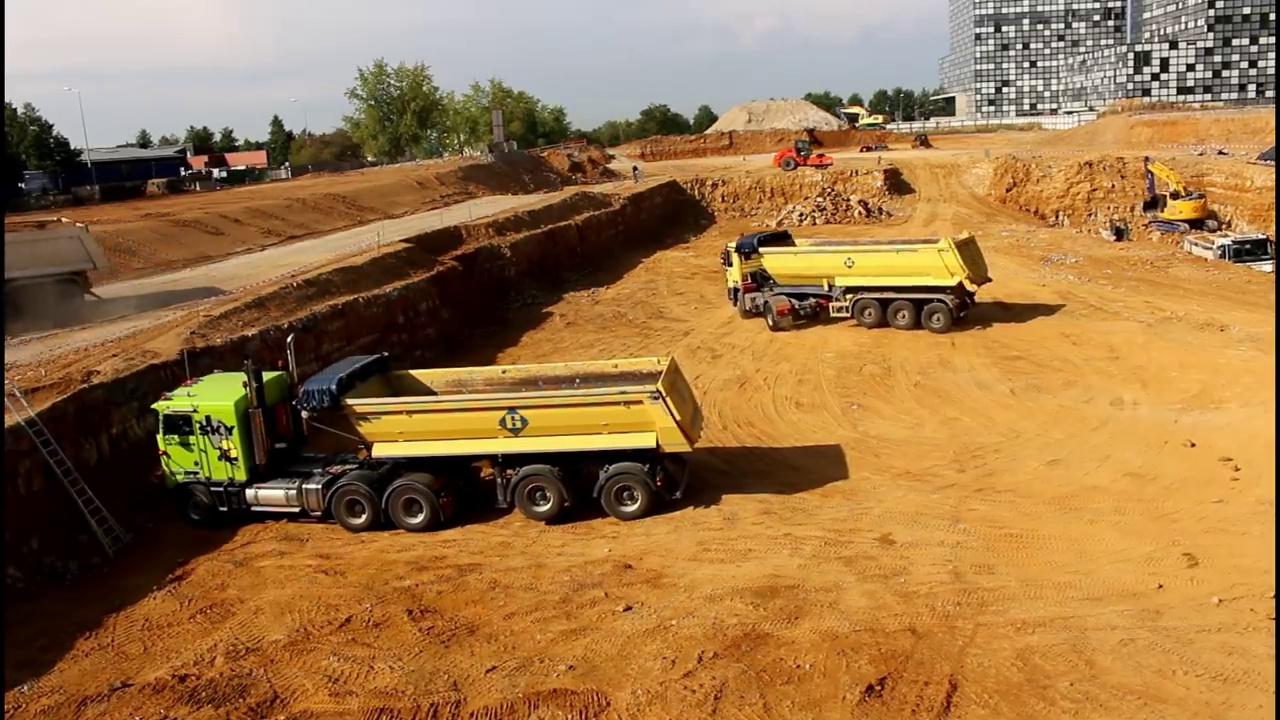compactor: (772, 138, 836, 174)
excavator: (1138, 152, 1220, 238), (837, 102, 891, 130)
truck: (147, 330, 709, 538), (720, 226, 996, 336), (1, 215, 109, 319), (1185, 230, 1280, 295)
worker: (627, 161, 644, 188)
